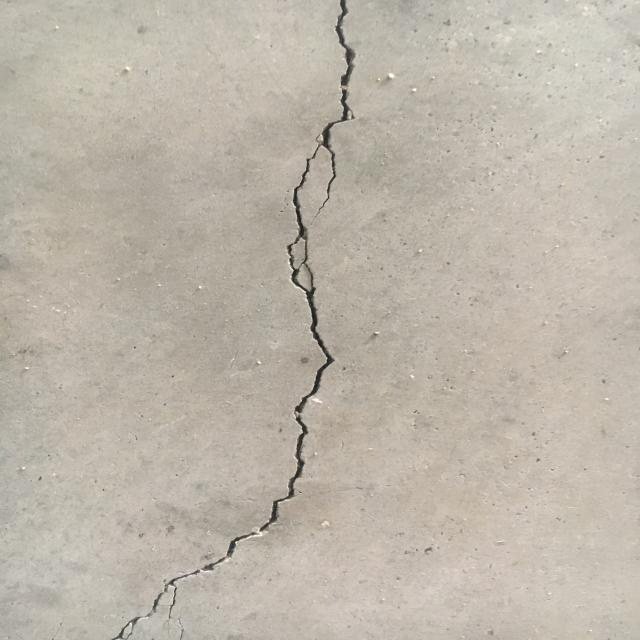Rachadura: (109, 0, 361, 640)
